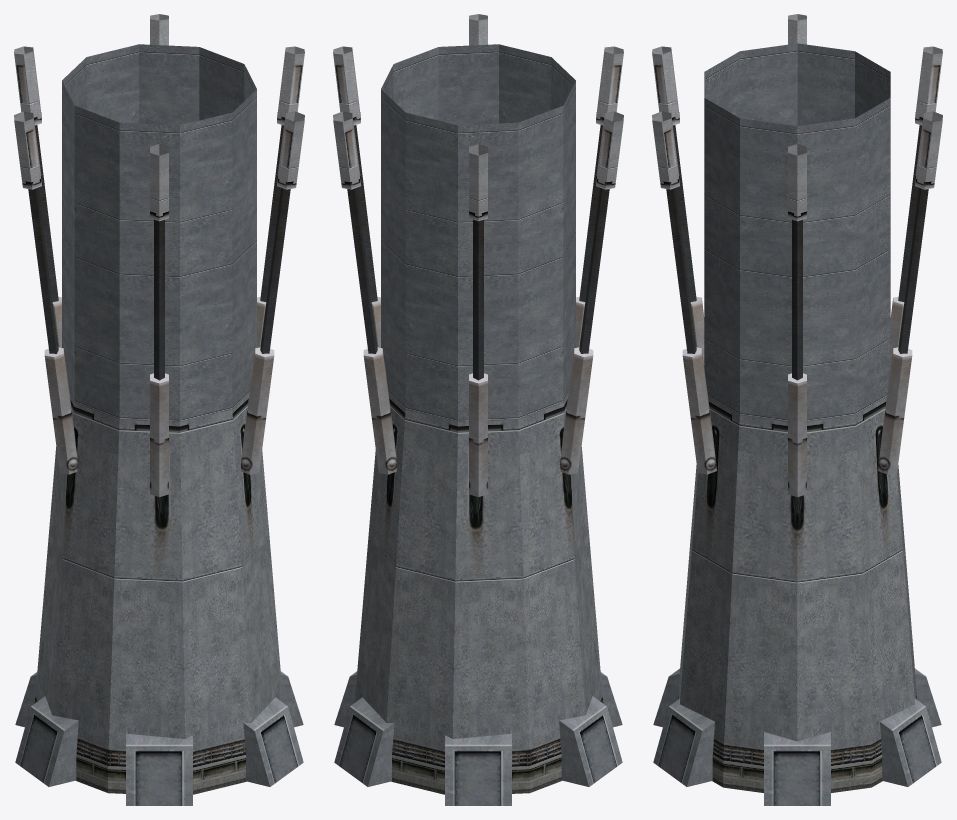
Rendered from poi_all_impl_bunker_pillar_s05_l0.fbx.
The picture shows the model from 3 angles, left to right: view 1: azimuth 30°, elevation 25°; view 2: azimuth 150°, elevation 25°; view 3: azimuth 270°, elevation 25°; orthographic projection.
Visible parts, largest first — view 1: mesh_node; view 2: mesh_node; view 3: mesh_node.
Boxes of the visible parts, x1,y1,x2,y2 form: mesh_node: (14, 14, 304, 805); mesh_node: (333, 14, 623, 805); mesh_node: (652, 14, 942, 805).
Bounding box in the file's own units: 2.5 × 5.44 × 2.16.
